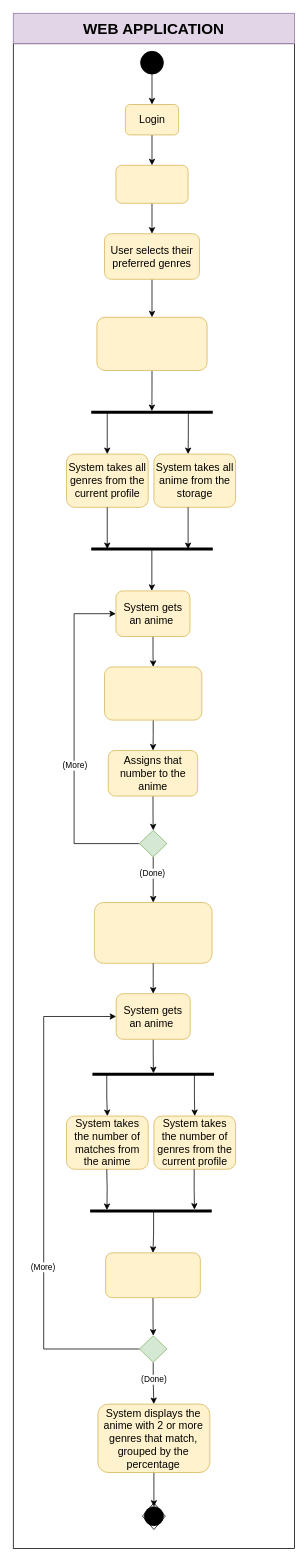
Some shapes in this 308 by 1562 pixel diagram are drawn without their labels. Here are the shapes that lost their labels. From the top down, the centre of each, then its label:
(151,184): Open Profile page
(151,343): User navigates to the anime "For you" page
(153,693): Checks the number of genres it has in common with the current profile
(153,932): System rearranges the list of anime based on that number in descending order
(152,1275): System calculates the match percentage
